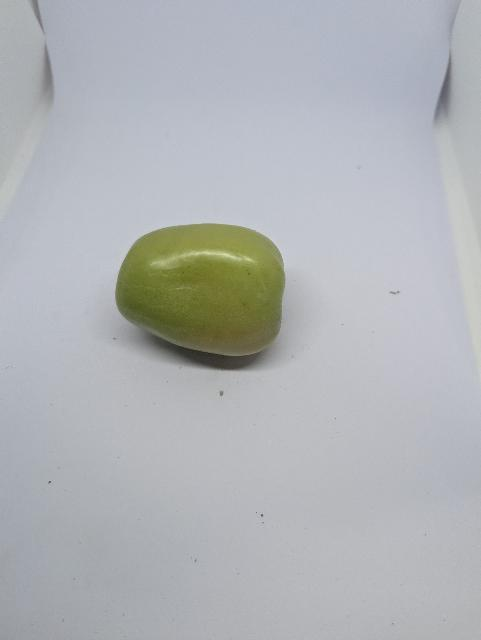green: (103, 220, 301, 365)
